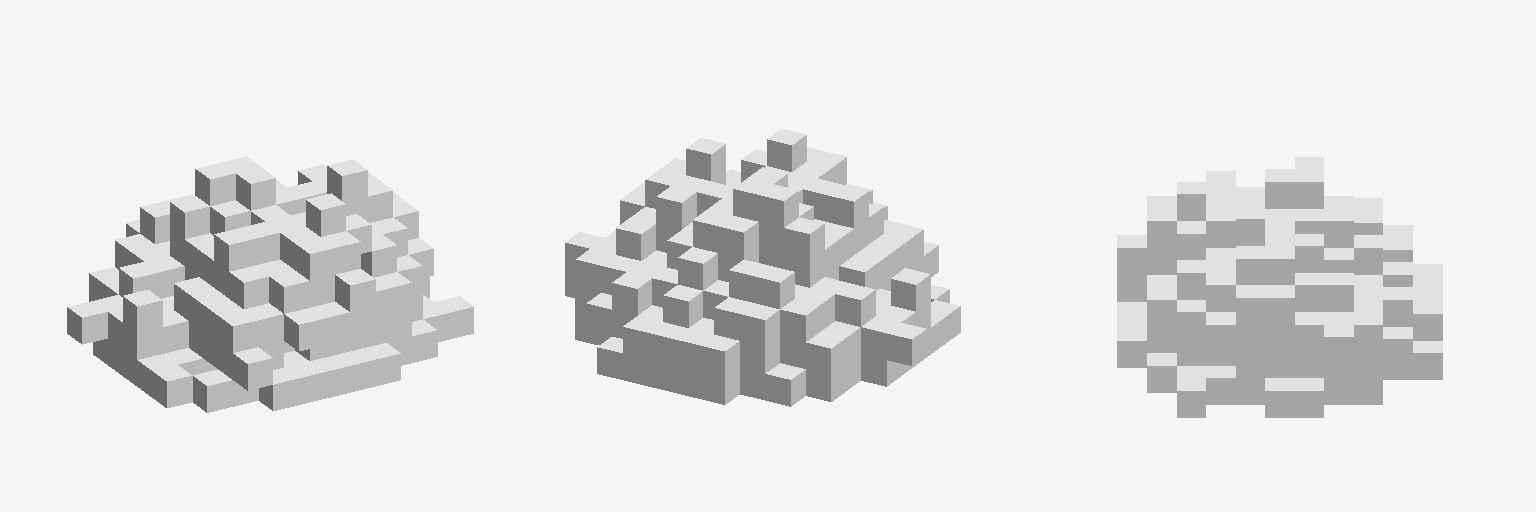
File: Roca01.obj
3 views of the same model, side by side, from view 1: azimuth 30°, elevation 25°; view 2: azimuth 150°, elevation 25°; view 3: azimuth 270°, elevation 25° (orthographic).
Parts seen in each view (by area): view 1: object 1; view 2: object 1; view 3: object 1.
Boxes of the visible parts, x1,y1,x2,y2 form: object 1: [67, 156, 473, 412]; object 1: [565, 128, 960, 406]; object 1: [1117, 157, 1442, 417].
Bounding box in the file's own units: 1.3 × 0.6 × 1.1.